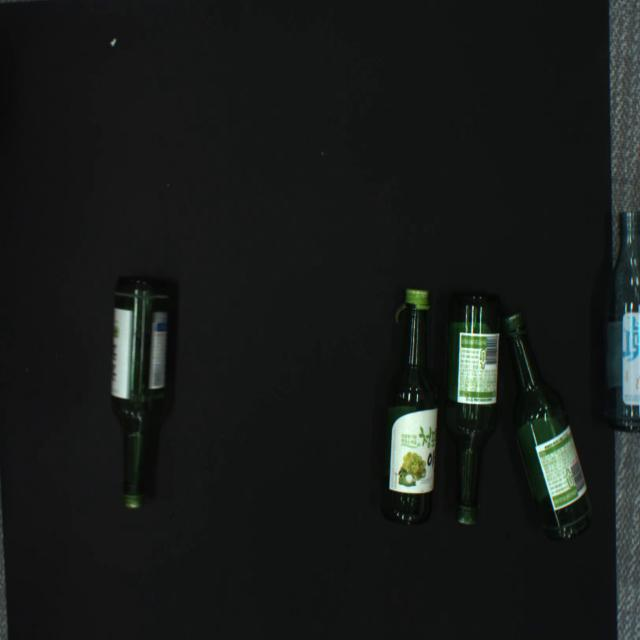soju-bottle: (502, 311, 592, 540), (444, 291, 503, 526), (110, 276, 169, 510), (381, 288, 439, 526), (602, 211, 640, 432)
